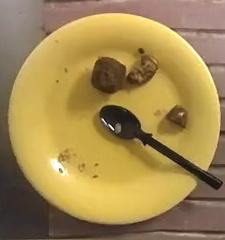meatball: (91, 57, 126, 93)
